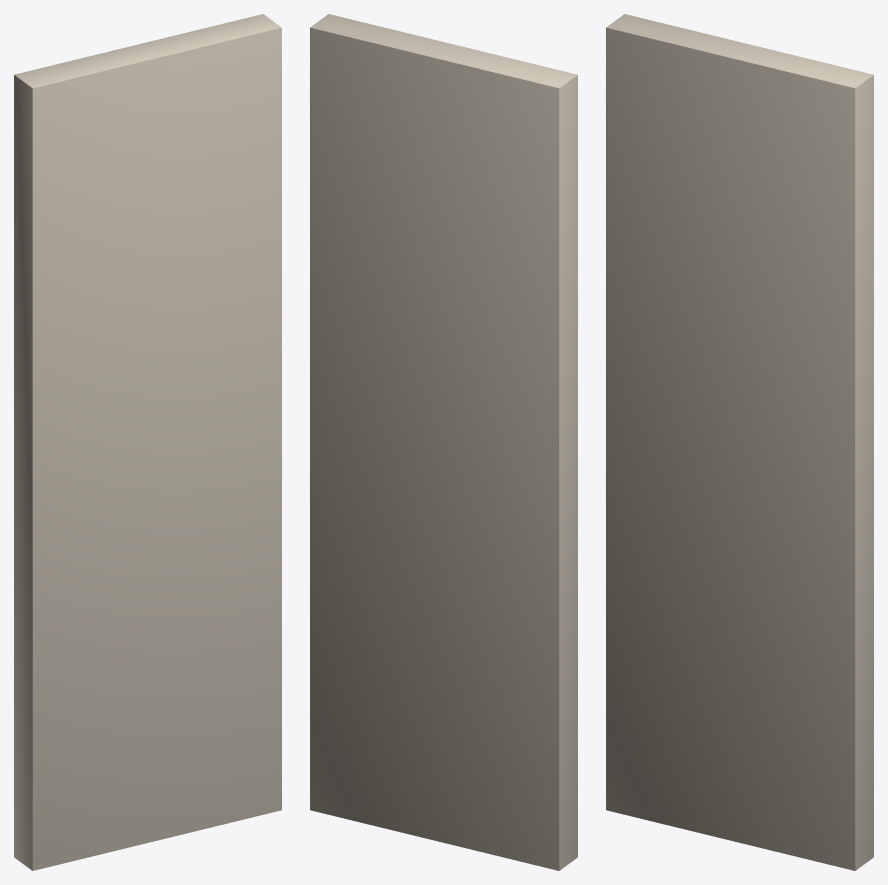
File: wall_1m_cream.glb
3 renders of one model, left to right at view 1: azimuth 30°, elevation 25°; view 2: azimuth 150°, elevation 25°; view 3: azimuth 330°, elevation 25°, orthographic.
Visible parts, largest first — view 1: wall_1m_cream; view 2: wall_1m_cream; view 3: wall_1m_cream.
Part boxes in pixels (x1=…): wall_1m_cream: x1=14, y1=14, x2=281, y2=870; wall_1m_cream: x1=310, y1=14, x2=577, y2=870; wall_1m_cream: x1=606, y1=14, x2=873, y2=870.
Bounding box in the file's own units: 1 × 3 × 0.13.
